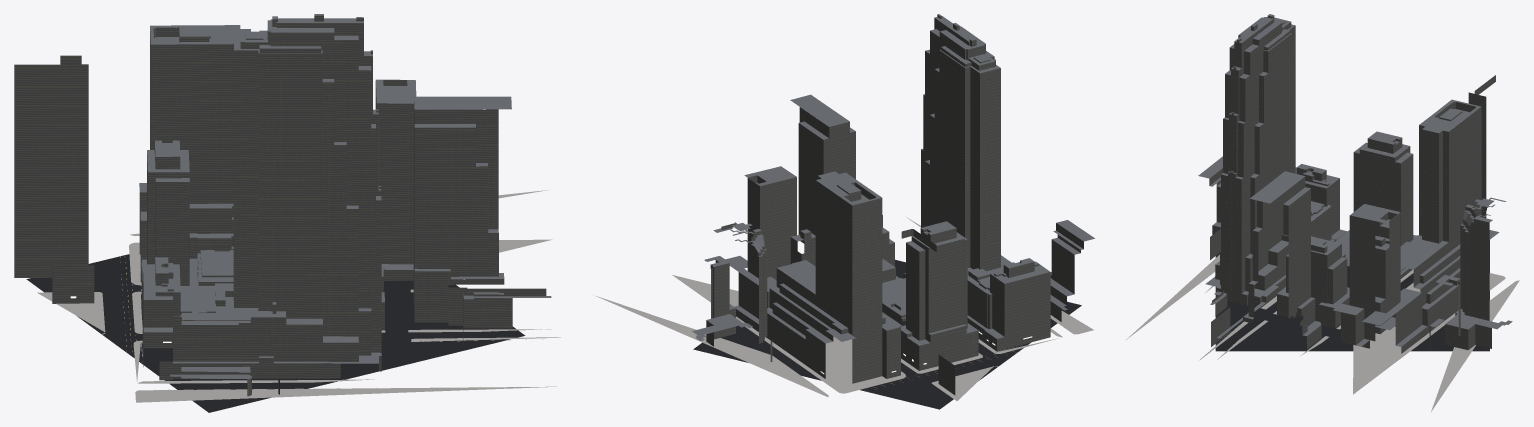
The picture shows the model from 3 angles, left to right: view 1: azimuth 30°, elevation 25°; view 2: azimuth 150°, elevation 25°; view 3: azimuth 270°, elevation 25°; orthographic projection. The views are drawn at different scales.
Parts seen in each view (by area): view 1: t5_4, detail; view 2: t5_4, detail; view 3: t5_4, detail.
Boxes of the visible parts, x1,y1,x2,y2 form: t5_4: [14, 14, 551, 412]; detail: [37, 190, 560, 402]; t5_4: [692, 14, 1094, 409]; detail: [595, 216, 1093, 400]; t5_4: [1198, 14, 1512, 353]; detail: [1125, 235, 1519, 411].
Bounding box in the file's own units: 418 × 263 × 360.
5 materials, 2 textured.
